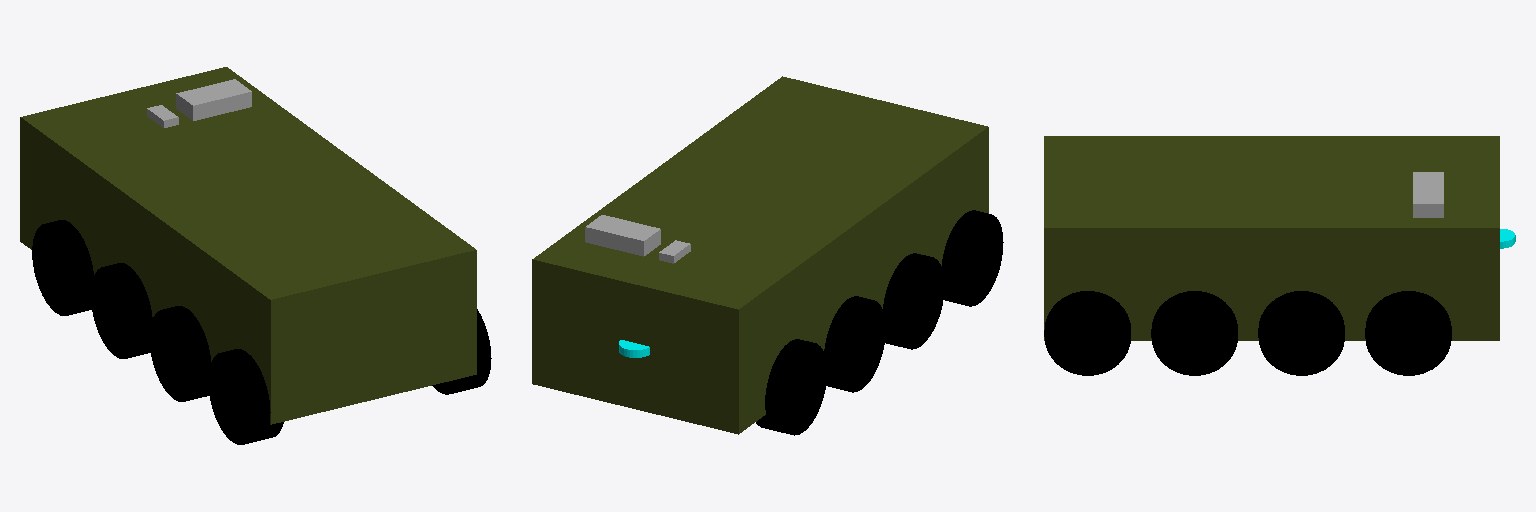
URDF robot description (argo_j8):
<?xml version="1.0" ?>
<!-- =================================================================================== -->
<!-- |    This document was autogenerated by xacro from [local-path]/ros2_ws/src/my_robot_description/urdf/argo_j8_v2.urdf.xacro | -->
<!-- |    EDITING THIS FILE BY HAND IS NOT RECOMMENDED                                 | -->
<!-- =================================================================================== -->
<!-- =================================================================================== -->
<!-- |    This document was autogenerated by xacro from [local-path]/ros2_ws/src/my_robot_description/urdf/argo_j8.urdf.xacro | -->
<!-- |    EDITING THIS FILE BY HAND IS NOT RECOMMENDED                                 | -->
<!-- =================================================================================== -->
<robot name="argo_j8">
  <!-- Specify some standard inertial calculations https://en.wikipedia.org/wiki/List_of_moments_of_inertia -->
  <!-- These make use of xacro's mathematical functionality -->
  <!-- Specify some standard inertial calculations https://en.wikipedia.org/wiki/List_of_moments_of_inertia -->
  <!-- These make use of xacro's mathematical functionality -->
  <!-- Specify some standard inertial calculations https://en.wikipedia.org/wiki/List_of_moments_of_inertia -->
  <!-- These make use of xacro's mathematical functionality -->
  <!-- Specify some standard inertial calculations https://en.wikipedia.org/wiki/List_of_moments_of_inertia -->
  <!-- These make use of xacro's mathematical functionality -->
  <!-- Definicion de xacro ruedas -->
  <!-- Definicion de materiales constantes -->
  <material name="Military green">
    <color rgba="0.29 0.33 0.13 1.0"/>
  </material>
  <material name="black">
    <color rgba="0.0 0.0 0.0 1.0"/>
  </material>
  <material name="blue">
    <color rgba="0.0 1.0 1.0 1.0"/>
  </material>
  <material name="grey">
    <color rgba="0.7 0.7 0.7 1.0"/>
  </material>
  <!-- Chasis -->
  <link name="base_link">
    <visual>
      <geometry>
        <box size="1.40 2.94 0.81"/>
        <!-- Dimensiones en metros -->
      </geometry>
      <origin rpy="0 0 0" xyz="0 0 0"/>
      <material name="Military green"/>
    </visual>
    <collision>
      <geometry>
        <box size="1.40 2.94 0.81"/>
        <!-- Dimensiones en metros -->
      </geometry>
      <origin rpy="0 0 0" xyz="0 0 0"/>
    </collision>
    <inertial>
      <origin rpy="0 0 0" xyz="0 0 0"/>
      <mass value="750"/>
      <inertia ixx="581.2312499999999" ixy="0.0" ixz="0.0" iyy="163.50625" iyz="0.0" izz="662.7249999999999"/>
    </inertial>
  </link>
  <!-- LiDAR, Camaras, y FixPosition -->
  <link name="LiDAR">
    <visual>
      <geometry>
        <cylinder length="0.05" radius="0.1"/>
        <!-- Dimensiones en metros -->
      </geometry>
      <origin rpy="0 0 0" xyz="0 0 0"/>
      <material name="blue"/>
    </visual>
    <collision>
      <geometry>
        <box size="0.2 0.2 0.05"/>
        <!-- Dimensiones en metros -->
      </geometry>
      <origin rpy="0 0 0" xyz="0 0 0"/>
    </collision>
  </link>
  <link name="front_camera">
    <visual>
      <geometry>
        <box size="0.1 0.1 0.1"/>
        <!-- Dimensiones en metros -->
      </geometry>
      <origin rpy="0 0 0" xyz="0 0 0"/>
      <material name="grey"/>
    </visual>
    <collision>
      <geometry>
        <box size="0.1 0.1 0.1"/>
        <!-- Dimensiones en metros -->
      </geometry>
      <origin rpy="0 0 0" xyz="0 0 0"/>
    </collision>
  </link>
  <link name="back_camera">
    <visual>
      <geometry>
        <box size="0.1 0.1 0.1"/>
        <!-- Dimensiones en metros -->
      </geometry>
      <origin rpy="0 0 0" xyz="0 0 0"/>
      <material name="grey"/>
    </visual>
    <collision>
      <geometry>
        <box size="0.1 0.1 0.1"/>
        <!-- Dimensiones en metros -->
      </geometry>
      <origin rpy="0 0 0" xyz="0 0 0"/>
    </collision>
  </link>
  <link name="fix_position">
    <visual>
      <geometry>
        <box size="0.4 0.2 0.2"/>
        <!-- Dimensiones en metros -->
      </geometry>
      <origin rpy="0 0 0" xyz="0 0 0"/>
      <material name="grey"/>
    </visual>
    <collision>
      <geometry>
        <box size="0.4 0.2 0.2"/>
        <!-- Dimensiones en metros -->
      </geometry>
      <origin rpy="0 0 0" xyz="0 0 0"/>
    </collision>
  </link>
  <!-- Definicion de las 8 ruedas (links y joins) -->
  <link name="front_left_wheel">
    <visual>
      <geometry>
        <cylinder length="0.20" radius="0.28"/>
        <!-- Radio y ancho de la rueda -->
      </geometry>
      <origin rpy="0 1.57 0" xyz="0 0 0"/>
      <!-- Radio en radianes -->
      <material name="black"/>
    </visual>
    <collision>
      <geometry>
        <cylinder length="0.20" radius="0.28"/>
        <!-- Radio y ancho de la rueda -->
      </geometry>
      <origin rpy="0 1.57 0" xyz="0 0 0"/>
      <!-- Radio en radianes -->
    </collision>
    <inertial>
      <origin rpy="0 1.57 0" xyz="0 0 0"/>
      <mass value="11"/>
      <inertia ixx="0.2522666666666667" ixy="0.0" ixz="0.0" iyy="0.2522666666666667" iyz="0.0" izz="0.4312000000000001"/>
    </inertial>
  </link>
  <!-- Joint entre chasis y rueda -->
  <joint name="joint_front_left_wheel" type="continuous">
    <parent link="base_link"/>
    <child link="front_left_wheel"/>
    <origin rpy="0 0 0" xyz="-0.7 0.88 -0.325"/>
    <!-- Posición de la rueda con respecto al chasis -->
    <axis xyz="-1 0 0"/>
    <!-- Eje de rotación -->
  </joint>
  <link name="front_right_wheel">
    <visual>
      <geometry>
        <cylinder length="0.20" radius="0.28"/>
        <!-- Radio y ancho de la rueda -->
      </geometry>
      <origin rpy="0 1.57 0" xyz="0 0 0"/>
      <!-- Radio en radianes -->
      <material name="black"/>
    </visual>
    <collision>
      <geometry>
        <cylinder length="0.20" radius="0.28"/>
        <!-- Radio y ancho de la rueda -->
      </geometry>
      <origin rpy="0 1.57 0" xyz="0 0 0"/>
      <!-- Radio en radianes -->
    </collision>
    <inertial>
      <origin rpy="0 1.57 0" xyz="0 0 0"/>
      <mass value="11"/>
      <inertia ixx="0.2522666666666667" ixy="0.0" ixz="0.0" iyy="0.2522666666666667" iyz="0.0" izz="0.4312000000000001"/>
    </inertial>
  </link>
  <!-- Joint entre chasis y rueda -->
  <joint name="joint_front_right_wheel" type="continuous">
    <parent link="base_link"/>
    <child link="front_right_wheel"/>
    <origin rpy="0 0 0" xyz="0.7 0.88 -0.325"/>
    <!-- Posición de la rueda con respecto al chasis -->
    <axis xyz="-1 0 0"/>
    <!-- Eje de rotación -->
  </joint>
  <link name="midfront_left_wheel">
    <visual>
      <geometry>
        <cylinder length="0.20" radius="0.28"/>
        <!-- Radio y ancho de la rueda -->
      </geometry>
      <origin rpy="0 1.57 0" xyz="0 0 0"/>
      <!-- Radio en radianes -->
      <material name="black"/>
    </visual>
    <collision>
      <geometry>
        <cylinder length="0.20" radius="0.28"/>
        <!-- Radio y ancho de la rueda -->
      </geometry>
      <origin rpy="0 1.57 0" xyz="0 0 0"/>
      <!-- Radio en radianes -->
    </collision>
    <inertial>
      <origin rpy="0 1.57 0" xyz="0 0 0"/>
      <mass value="11"/>
      <inertia ixx="0.2522666666666667" ixy="0.0" ixz="0.0" iyy="0.2522666666666667" iyz="0.0" izz="0.4312000000000001"/>
    </inertial>
  </link>
  <!-- Joint entre chasis y rueda -->
  <joint name="joint_midfront_left_wheel" type="continuous">
    <parent link="base_link"/>
    <child link="midfront_left_wheel"/>
    <origin rpy="0 0 0" xyz="-0.7 0.19 -0.325"/>
    <!-- Posición de la rueda con respecto al chasis -->
    <axis xyz="-1 0 0"/>
    <!-- Eje de rotación -->
  </joint>
  <link name="midfront_right_wheel">
    <visual>
      <geometry>
        <cylinder length="0.20" radius="0.28"/>
        <!-- Radio y ancho de la rueda -->
      </geometry>
      <origin rpy="0 1.57 0" xyz="0 0 0"/>
      <!-- Radio en radianes -->
      <material name="black"/>
    </visual>
    <collision>
      <geometry>
        <cylinder length="0.20" radius="0.28"/>
        <!-- Radio y ancho de la rueda -->
      </geometry>
      <origin rpy="0 1.57 0" xyz="0 0 0"/>
      <!-- Radio en radianes -->
    </collision>
    <inertial>
      <origin rpy="0 1.57 0" xyz="0 0 0"/>
      <mass value="11"/>
      <inertia ixx="0.2522666666666667" ixy="0.0" ixz="0.0" iyy="0.2522666666666667" iyz="0.0" izz="0.4312000000000001"/>
    </inertial>
  </link>
  <!-- Joint entre chasis y rueda -->
  <joint name="joint_midfront_right_wheel" type="continuous">
    <parent link="base_link"/>
    <child link="midfront_right_wheel"/>
    <origin rpy="0 0 0" xyz="0.7 0.19 -0.325"/>
    <!-- Posición de la rueda con respecto al chasis -->
    <axis xyz="-1 0 0"/>
    <!-- Eje de rotación -->
  </joint>
  <link name="midback_left_wheel">
    <visual>
      <geometry>
        <cylinder length="0.20" radius="0.28"/>
        <!-- Radio y ancho de la rueda -->
      </geometry>
      <origin rpy="0 1.57 0" xyz="0 0 0"/>
      <!-- Radio en radianes -->
      <material name="black"/>
    </visual>
    <collision>
      <geometry>
        <cylinder length="0.20" radius="0.28"/>
        <!-- Radio y ancho de la rueda -->
      </geometry>
      <origin rpy="0 1.57 0" xyz="0 0 0"/>
      <!-- Radio en radianes -->
    </collision>
    <inertial>
      <origin rpy="0 1.57 0" xyz="0 0 0"/>
      <mass value="11"/>
      <inertia ixx="0.2522666666666667" ixy="0.0" ixz="0.0" iyy="0.2522666666666667" iyz="0.0" izz="0.4312000000000001"/>
    </inertial>
  </link>
  <!-- Joint entre chasis y rueda -->
  <joint name="joint_midback_left_wheel" type="continuous">
    <parent link="base_link"/>
    <child link="midback_left_wheel"/>
    <origin rpy="0 0 0" xyz="-0.7 -0.5 -0.325"/>
    <!-- Posición de la rueda con respecto al chasis -->
    <axis xyz="-1 0 0"/>
    <!-- Eje de rotación -->
  </joint>
  <link name="midback_right_wheel">
    <visual>
      <geometry>
        <cylinder length="0.20" radius="0.28"/>
        <!-- Radio y ancho de la rueda -->
      </geometry>
      <origin rpy="0 1.57 0" xyz="0 0 0"/>
      <!-- Radio en radianes -->
      <material name="black"/>
    </visual>
    <collision>
      <geometry>
        <cylinder length="0.20" radius="0.28"/>
        <!-- Radio y ancho de la rueda -->
      </geometry>
      <origin rpy="0 1.57 0" xyz="0 0 0"/>
      <!-- Radio en radianes -->
    </collision>
    <inertial>
      <origin rpy="0 1.57 0" xyz="0 0 0"/>
      <mass value="11"/>
      <inertia ixx="0.2522666666666667" ixy="0.0" ixz="0.0" iyy="0.2522666666666667" iyz="0.0" izz="0.4312000000000001"/>
    </inertial>
  </link>
  <!-- Joint entre chasis y rueda -->
  <joint name="joint_midback_right_wheel" type="continuous">
    <parent link="base_link"/>
    <child link="midback_right_wheel"/>
    <origin rpy="0 0 0" xyz="0.7 -0.5 -0.325"/>
    <!-- Posición de la rueda con respecto al chasis -->
    <axis xyz="-1 0 0"/>
    <!-- Eje de rotación -->
  </joint>
  <link name="back_left_wheel">
    <visual>
      <geometry>
        <cylinder length="0.20" radius="0.28"/>
        <!-- Radio y ancho de la rueda -->
      </geometry>
      <origin rpy="0 1.57 0" xyz="0 0 0"/>
      <!-- Radio en radianes -->
      <material name="black"/>
    </visual>
    <collision>
      <geometry>
        <cylinder length="0.20" radius="0.28"/>
        <!-- Radio y ancho de la rueda -->
      </geometry>
      <origin rpy="0 1.57 0" xyz="0 0 0"/>
      <!-- Radio en radianes -->
    </collision>
    <inertial>
      <origin rpy="0 1.57 0" xyz="0 0 0"/>
      <mass value="11"/>
      <inertia ixx="0.2522666666666667" ixy="0.0" ixz="0.0" iyy="0.2522666666666667" iyz="0.0" izz="0.4312000000000001"/>
    </inertial>
  </link>
  <!-- Joint entre chasis y rueda -->
  <joint name="joint_back_left_wheel" type="continuous">
    <parent link="base_link"/>
    <child link="back_left_wheel"/>
    <origin rpy="0 0 0" xyz="-0.7 -1.19 -0.325"/>
    <!-- Posición de la rueda con respecto al chasis -->
    <axis xyz="-1 0 0"/>
    <!-- Eje de rotación -->
  </joint>
  <link name="back_right_wheel">
    <visual>
      <geometry>
        <cylinder length="0.20" radius="0.28"/>
        <!-- Radio y ancho de la rueda -->
      </geometry>
      <origin rpy="0 1.57 0" xyz="0 0 0"/>
      <!-- Radio en radianes -->
      <material name="black"/>
    </visual>
    <collision>
      <geometry>
        <cylinder length="0.20" radius="0.28"/>
        <!-- Radio y ancho de la rueda -->
      </geometry>
      <origin rpy="0 1.57 0" xyz="0 0 0"/>
      <!-- Radio en radianes -->
    </collision>
    <inertial>
      <origin rpy="0 1.57 0" xyz="0 0 0"/>
      <mass value="11"/>
      <inertia ixx="0.2522666666666667" ixy="0.0" ixz="0.0" iyy="0.2522666666666667" iyz="0.0" izz="0.4312000000000001"/>
    </inertial>
  </link>
  <!-- Joint entre chasis y rueda -->
  <joint name="joint_back_right_wheel" type="continuous">
    <parent link="base_link"/>
    <child link="back_right_wheel"/>
    <origin rpy="0 0 0" xyz="0.7 -1.19 -0.325"/>
    <!-- Posición de la rueda con respecto al chasis -->
    <axis xyz="-1 0 0"/>
    <!-- Eje de rotación -->
  </joint>
  <!-- Link virtual para base del plano.  -->
  <link name="base_footprint"/>
  <!-- Joint de referencia de la base del plano y Argo J8 -->
  <joint name="joint_base_footprint" type="fixed">
    <parent link="base_link"/>
    <child link="base_footprint"/>
    <origin rpy="0 0 0" xyz="0 0 -0.605"/>
    <!-- Posición de la rueda con respecto al chasis -->
  </joint>
  <!-- Definicion de Joints entre chasis y LiDAR, cámara y FixPosition con chasis -->
  <!-- Joint entre chasis y LiDAR -->
  <joint name="joint_LiDAR" type="fixed">
    <parent link="base_link"/>
    <child link="LiDAR"/>
    <origin rpy="0 0 1.57" xyz="0 1.47 0"/>
    <!-- Posición del LiDAR con respecto al chasis -->
  </joint>
  <!-- Joint entre chasis y camaras -->
  <joint name="joint_front_camera" type="fixed">
    <parent link="base_link"/>
    <child link="front_camera"/>
    <origin rpy="0 0 0" xyz="0 1.06 0.405"/>
    <!-- Posición de la camara con respecto al chasis -->
  </joint>
  <joint name="joint_back_camera" type="fixed">
    <parent link="base_link"/>
    <child link="back_camera"/>
    <origin rpy="0 0 0" xyz="0 0.96 0.405"/>
    <!-- Posición de la camara con respecto al chasis -->
  </joint>
  <!-- Joint entre chasis y FixPosition -->
  <joint name="joint_fix_position" type="fixed">
    <parent link="base_link"/>
    <child link="fix_position"/>
    <origin rpy="0 0 0" xyz="0.35 1.01 0.405"/>
    <!-- Posición del LiDAR con respecto al chasis -->
  </joint>
</robot>

--- Facts derived from the render (not from the file) ---
The picture shows the robot from 3 angles, left to right: view 1: azimuth 30°, elevation 25°; view 2: azimuth 150°, elevation 25°; view 3: azimuth 270°, elevation 25°; orthographic projection.
Robot: argo_j8 — 14 links, 13 joints (8 continuous, 5 fixed); root link base_link; default pose: all joints at 0.
Visible links, largest first — view 1: base_link, back_left_wheel, midfront_left_wheel, front_left_wheel, midback_left_wheel, fix_position, back_right_wheel; view 2: base_link, front_left_wheel, midfront_left_wheel, midback_left_wheel, back_left_wheel, fix_position; view 3: base_link, midback_right_wheel, midfront_right_wheel, back_right_wheel, front_right_wheel, fix_position.
Link boxes in pixels (x1,y1,x2,y2): base_link: [20, 67, 476, 424]; back_left_wheel: [208, 349, 283, 444]; midfront_left_wheel: [91, 263, 152, 358]; front_left_wheel: [32, 220, 93, 315]; midback_left_wheel: [149, 306, 210, 401]; fix_position: [176, 79, 251, 120]; back_right_wheel: [432, 309, 491, 394]; base_link: [532, 76, 988, 434]; front_left_wheel: [756, 339, 826, 435]; midfront_left_wheel: [824, 296, 885, 392]; midback_left_wheel: [883, 253, 944, 349]; back_left_wheel: [942, 210, 1003, 306]; fix_position: [585, 215, 660, 256]; base_link: [1044, 136, 1499, 340]; midback_right_wheel: [1151, 291, 1237, 375]; midfront_right_wheel: [1258, 291, 1344, 375]; back_right_wheel: [1044, 291, 1130, 375]; front_right_wheel: [1365, 291, 1451, 375]; fix_position: [1413, 178, 1443, 217].
Bounding box of the posed robot: 1.6 × 3.04 × 1.11 m (x, y, z).
Geometry: primitives only (box / cylinder / sphere), no mesh files.